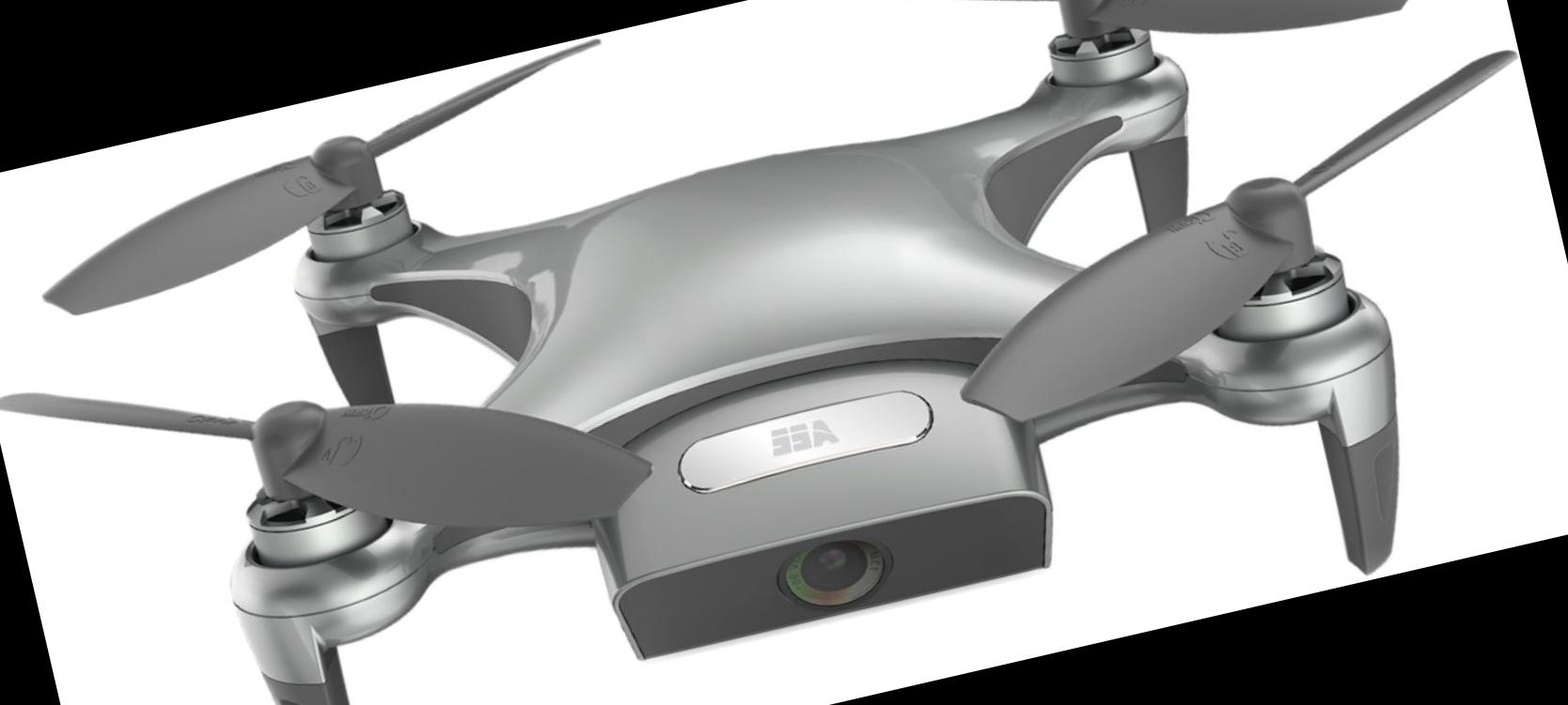drone: (0, 0, 1556, 705)
